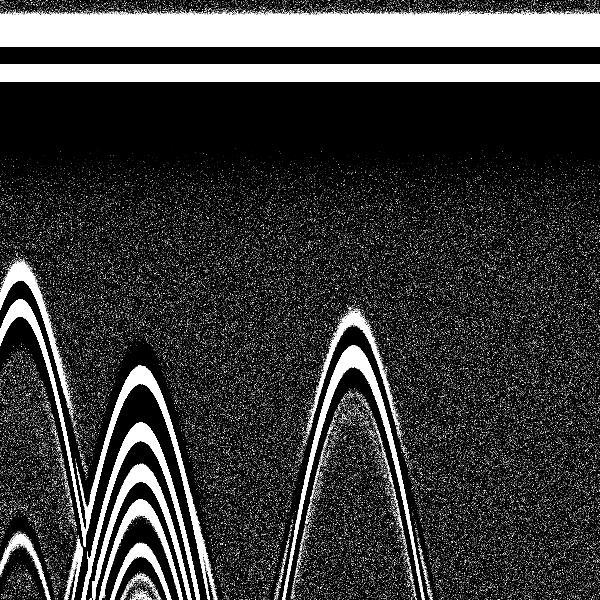pipe: (91, 4, 189, 445), (302, 5, 404, 414), (1, 5, 69, 366)
